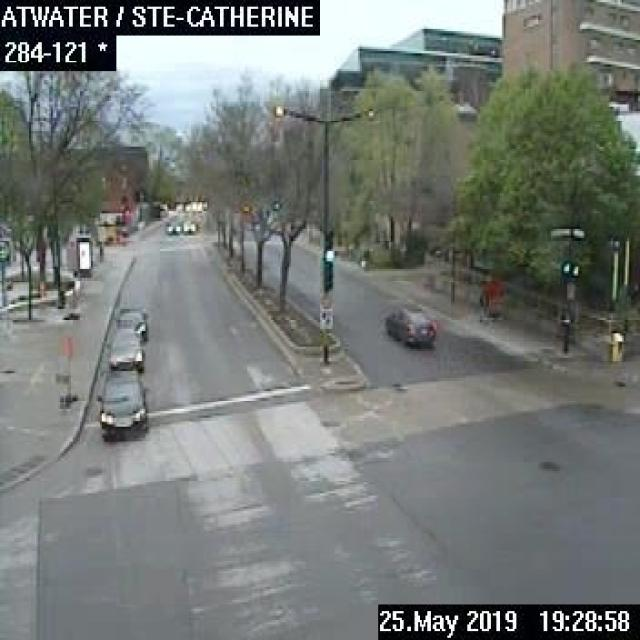construction: (59, 333, 77, 398), (482, 278, 500, 316)
vehicle: (94, 367, 148, 442), (382, 302, 438, 349), (106, 327, 144, 369), (112, 304, 146, 338), (164, 217, 180, 233), (181, 217, 195, 232)
